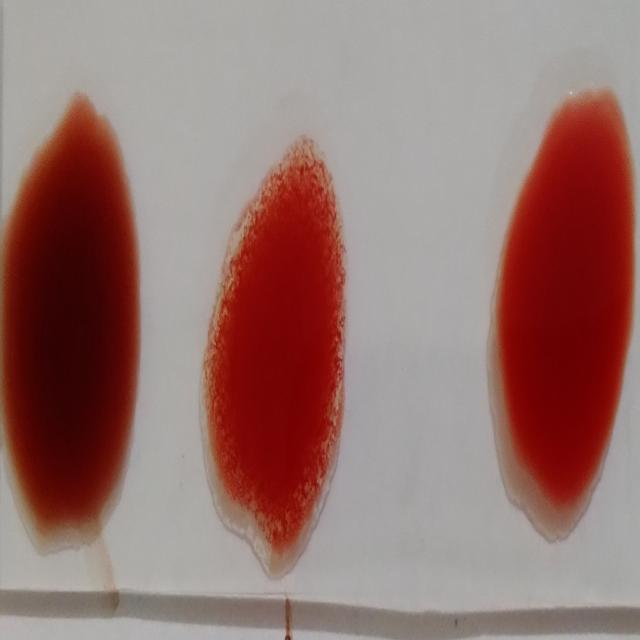B: (205, 148, 346, 570)
